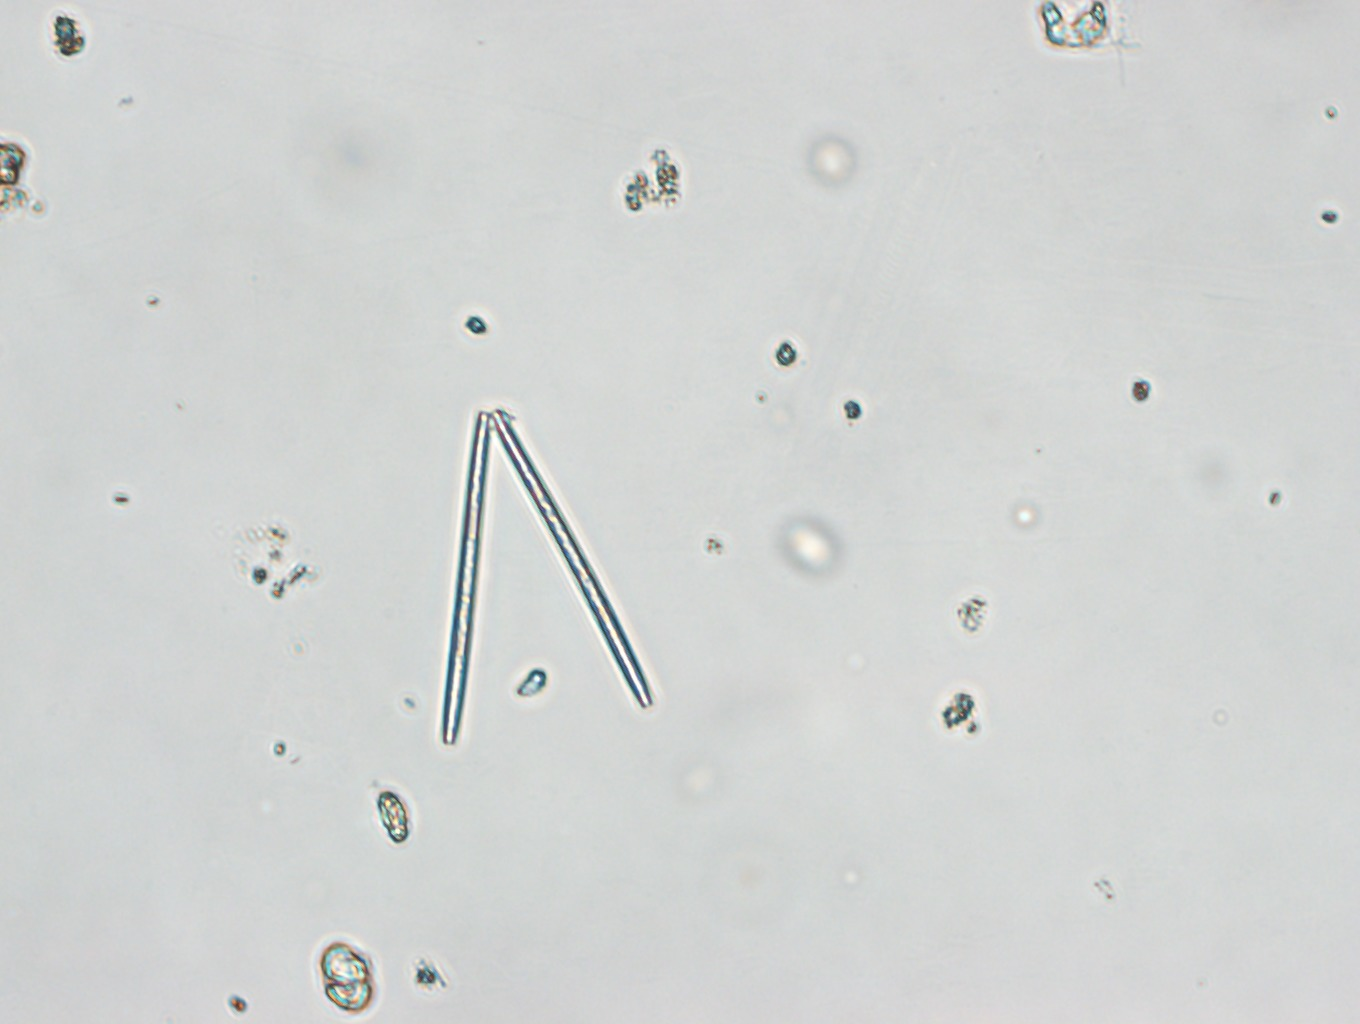thalassionema frauenfeldii: (431, 398, 652, 744)
